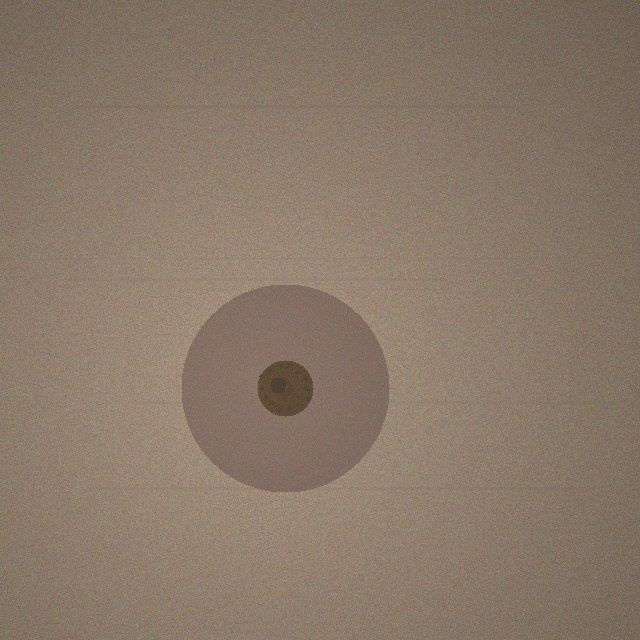cold_weld: (181, 284, 389, 492)
